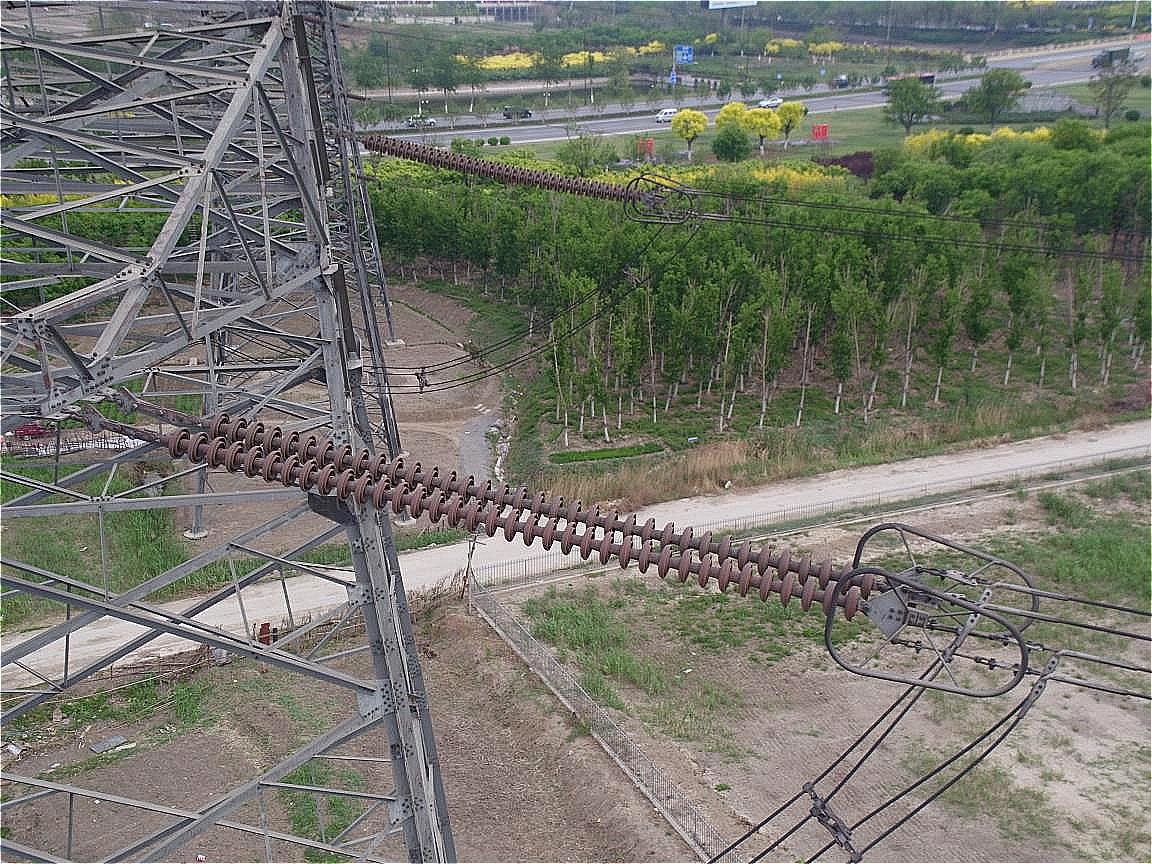insultor1: (146, 397, 900, 646)
